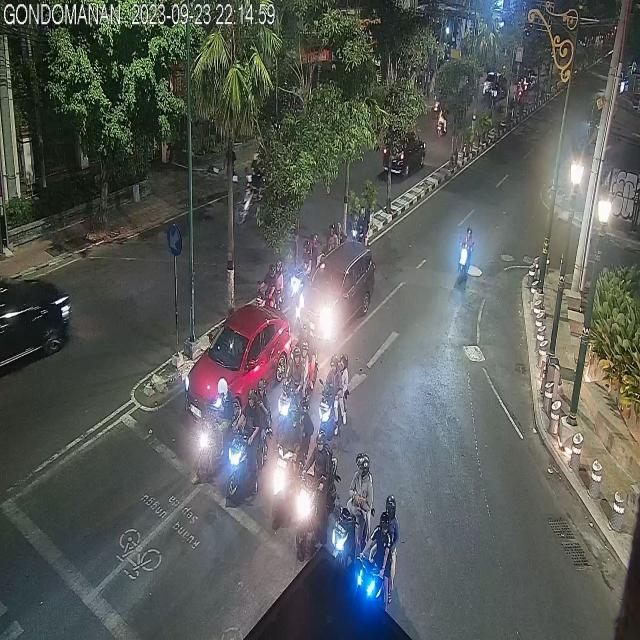car: (184, 300, 292, 432), (0, 271, 74, 379), (300, 242, 372, 340), (378, 126, 427, 182)
motorcycle: (228, 383, 274, 503), (273, 396, 312, 524), (299, 438, 340, 552), (358, 496, 396, 616), (332, 453, 373, 561), (280, 341, 313, 428), (320, 354, 348, 451), (258, 261, 284, 319), (292, 235, 315, 294), (458, 227, 475, 288), (437, 106, 448, 136)
